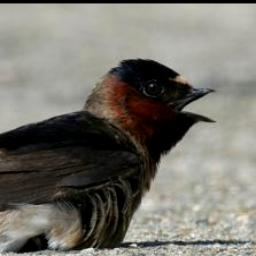Swallow: (0, 57, 220, 256)
